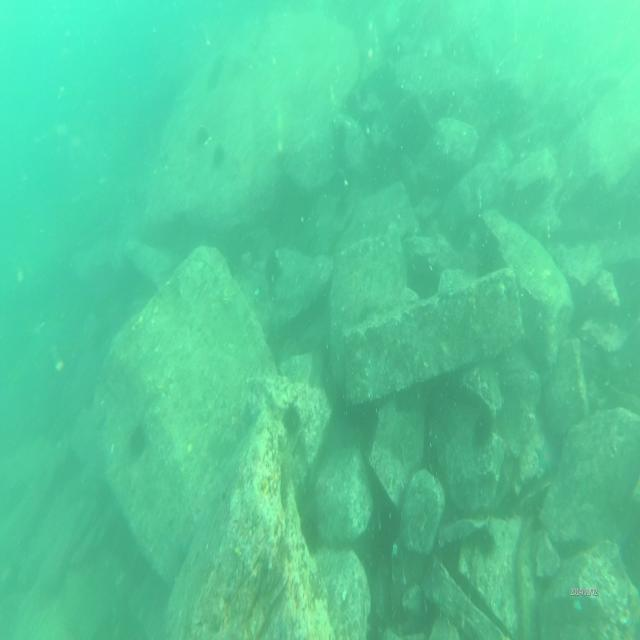echinus: (475, 408, 496, 449), (264, 252, 282, 294), (128, 425, 146, 464), (283, 402, 301, 437), (478, 526, 496, 560), (210, 144, 227, 172), (195, 120, 208, 148), (207, 66, 221, 90)
starfish: (535, 437, 557, 478)
